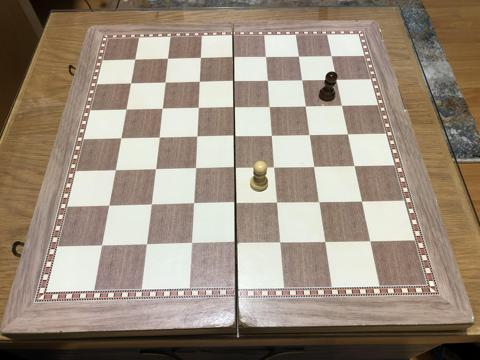xcorner: (326, 51, 338, 63), (293, 51, 305, 63), (260, 52, 272, 64), (227, 52, 239, 64), (194, 53, 206, 65), (161, 54, 173, 66), (128, 54, 140, 66), (331, 74, 343, 86), (297, 75, 309, 87), (262, 76, 274, 88), (228, 76, 240, 88), (159, 77, 171, 89), (124, 78, 136, 90), (337, 100, 349, 112), (301, 101, 313, 113), (265, 102, 277, 114), (229, 102, 241, 114), (192, 103, 204, 115), (156, 104, 168, 116), (120, 104, 132, 116), (343, 129, 355, 141), (267, 130, 279, 142), (229, 131, 241, 143), (191, 132, 203, 144), (153, 133, 165, 145), (115, 133, 127, 145), (350, 160, 362, 172), (310, 161, 322, 173), (270, 162, 282, 174), (230, 163, 242, 175), (190, 164, 202, 176), (150, 165, 162, 177), (357, 196, 369, 208), (315, 197, 327, 209), (231, 198, 243, 210), (146, 200, 158, 212), (103, 201, 115, 213), (366, 235, 378, 247), (321, 236, 333, 248), (277, 237, 289, 249), (232, 238, 244, 250), (187, 239, 199, 251), (142, 240, 154, 252), (97, 241, 109, 253), (194, 77, 205, 89), (305, 130, 317, 141), (110, 165, 121, 177), (273, 198, 285, 209), (189, 199, 200, 211)
